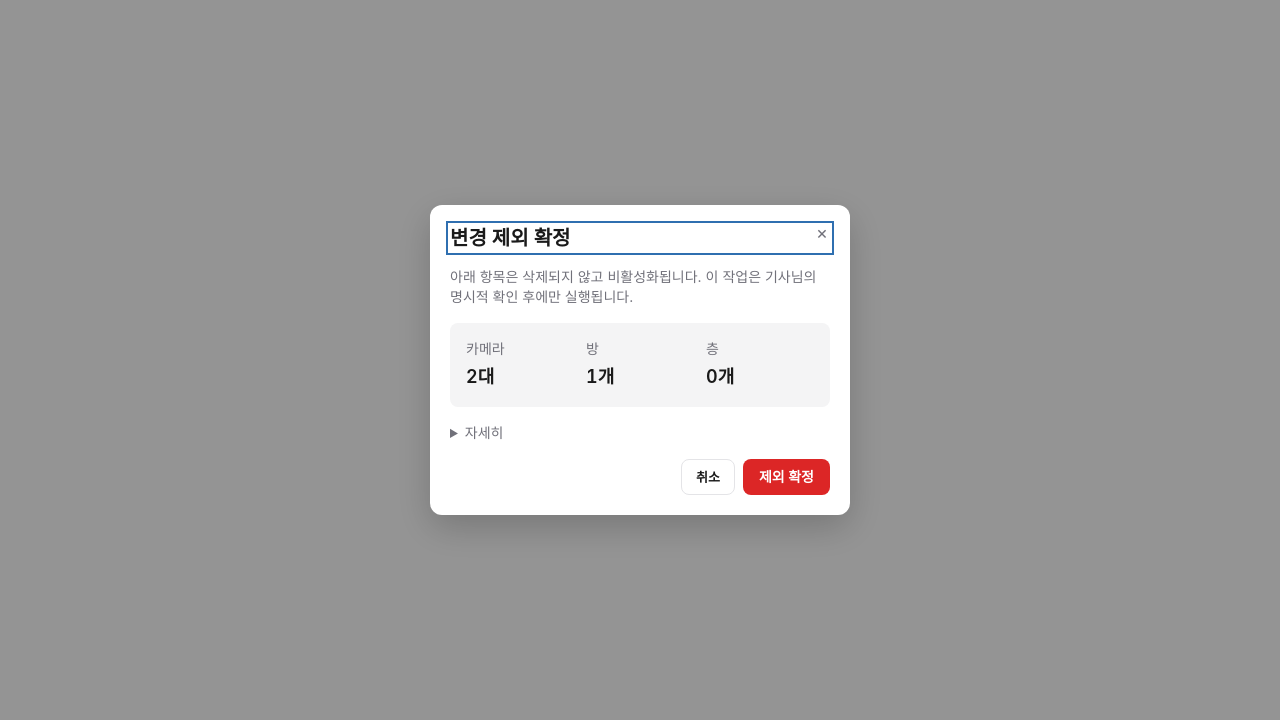
Test: TopologyConfirmationDialog › classifies a 401 confirm failure distinctly
Click the button "제외 확정".
click(786, 477)  # box [743,459,830,495]
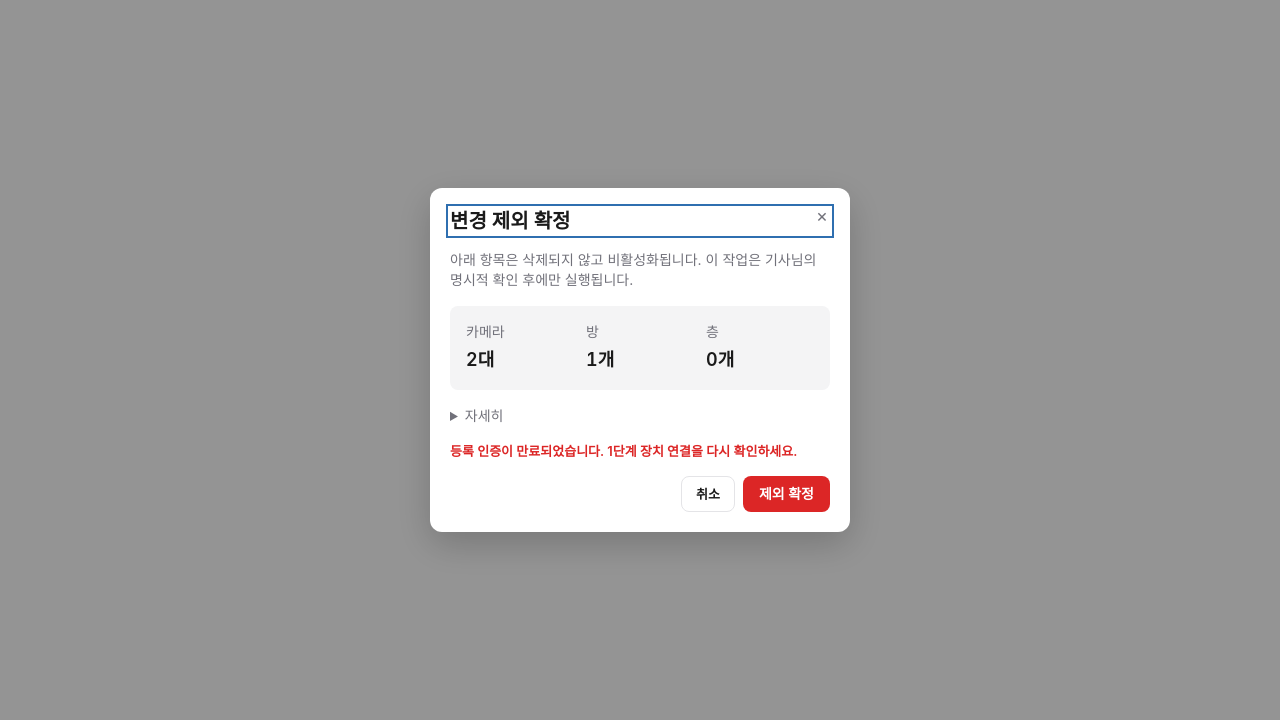
Expected: the message "등록 인증이 만료되었습니다. 1단계 장치 연결을 다시 확인하세요." is shown, [450,442,830,460]
